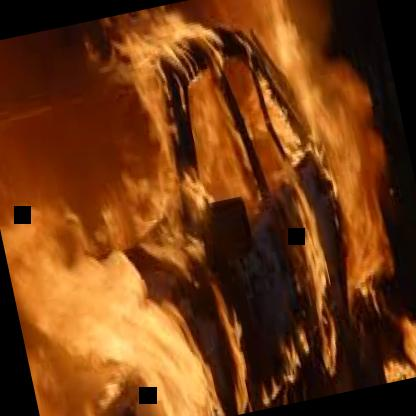fire: (0, 37, 367, 416)
